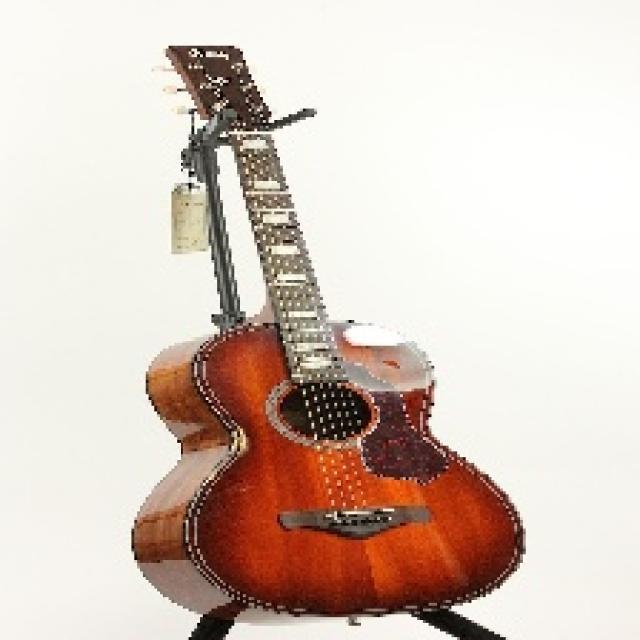acousticguitar: (133, 47, 522, 615)
